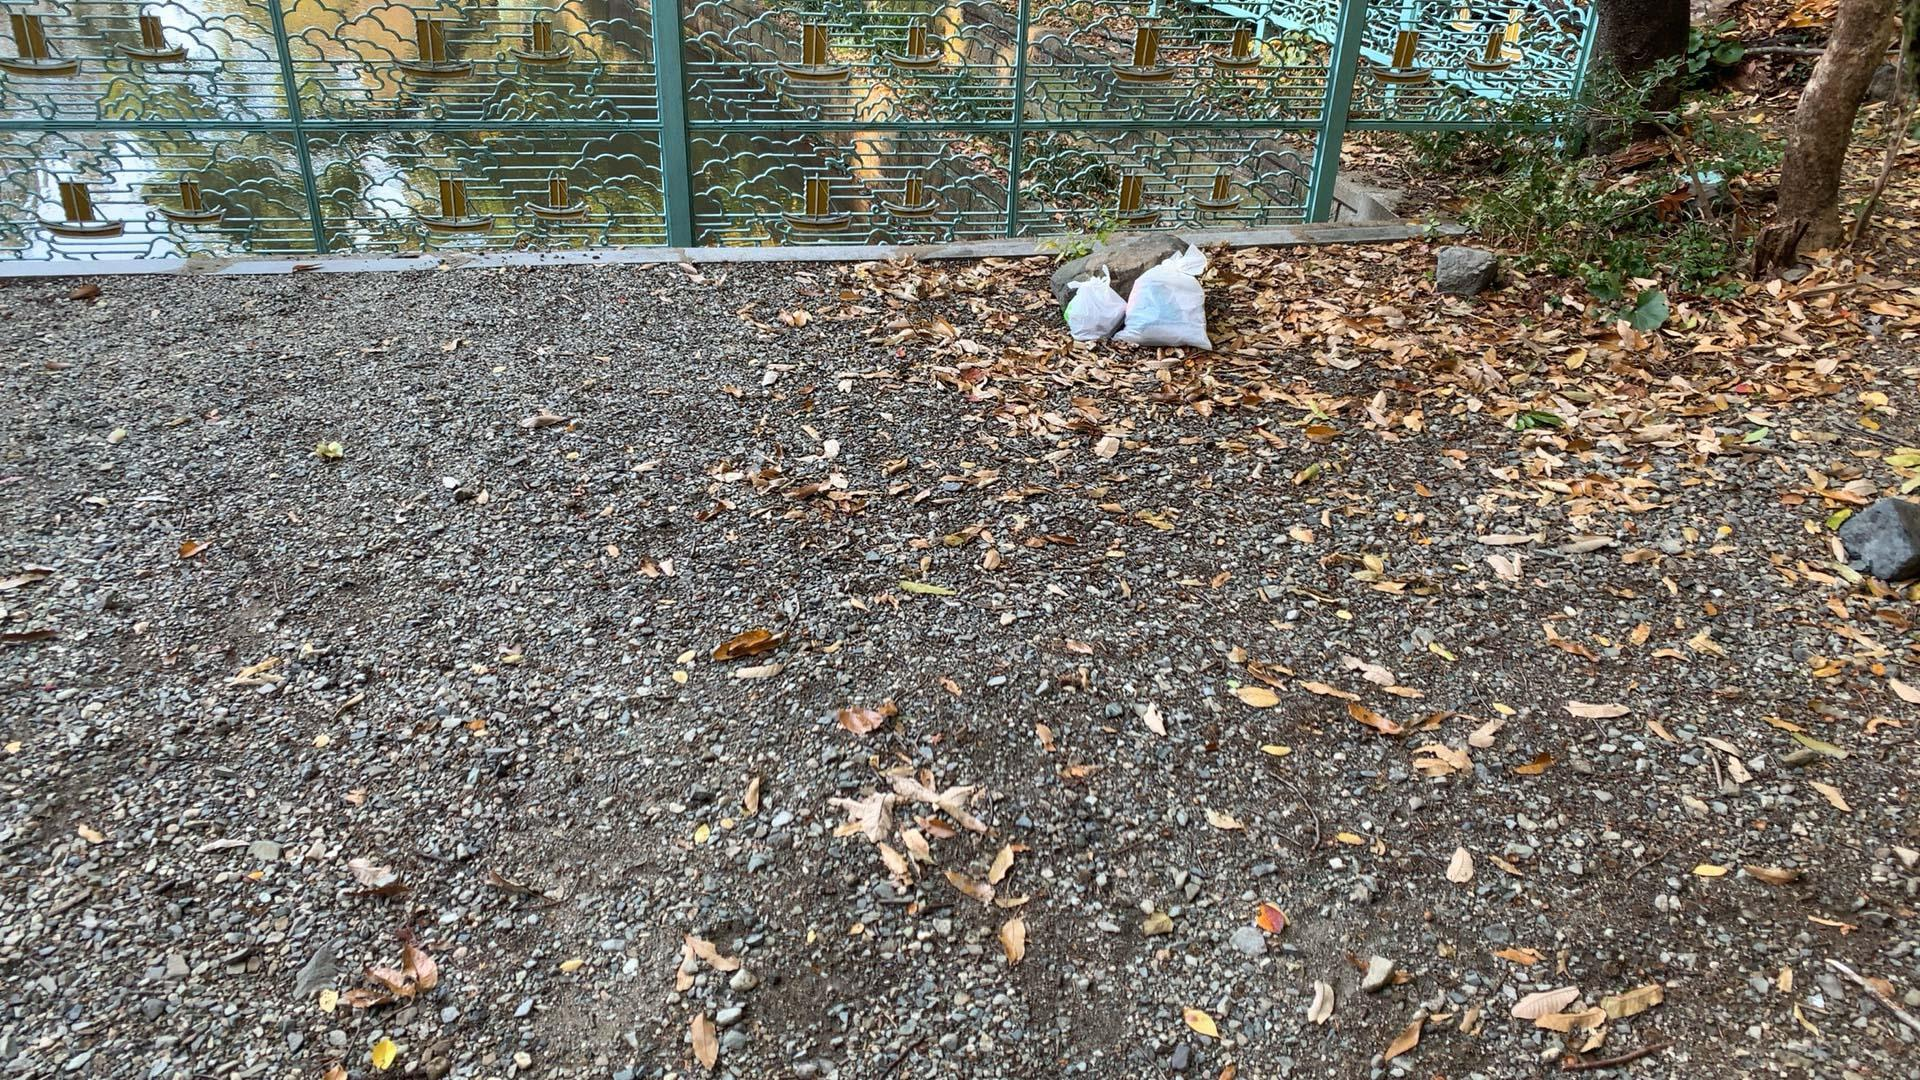white_bag: (1106, 237, 1218, 351), (1059, 260, 1129, 342)
